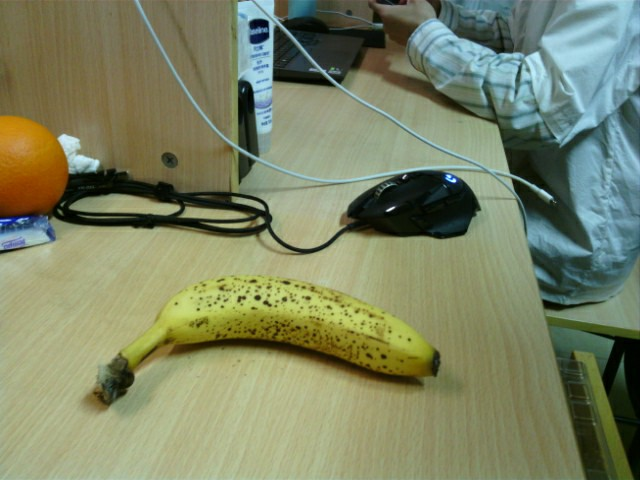normal_banana: (98, 275, 440, 406)
normal_orange: (1, 116, 68, 212)
